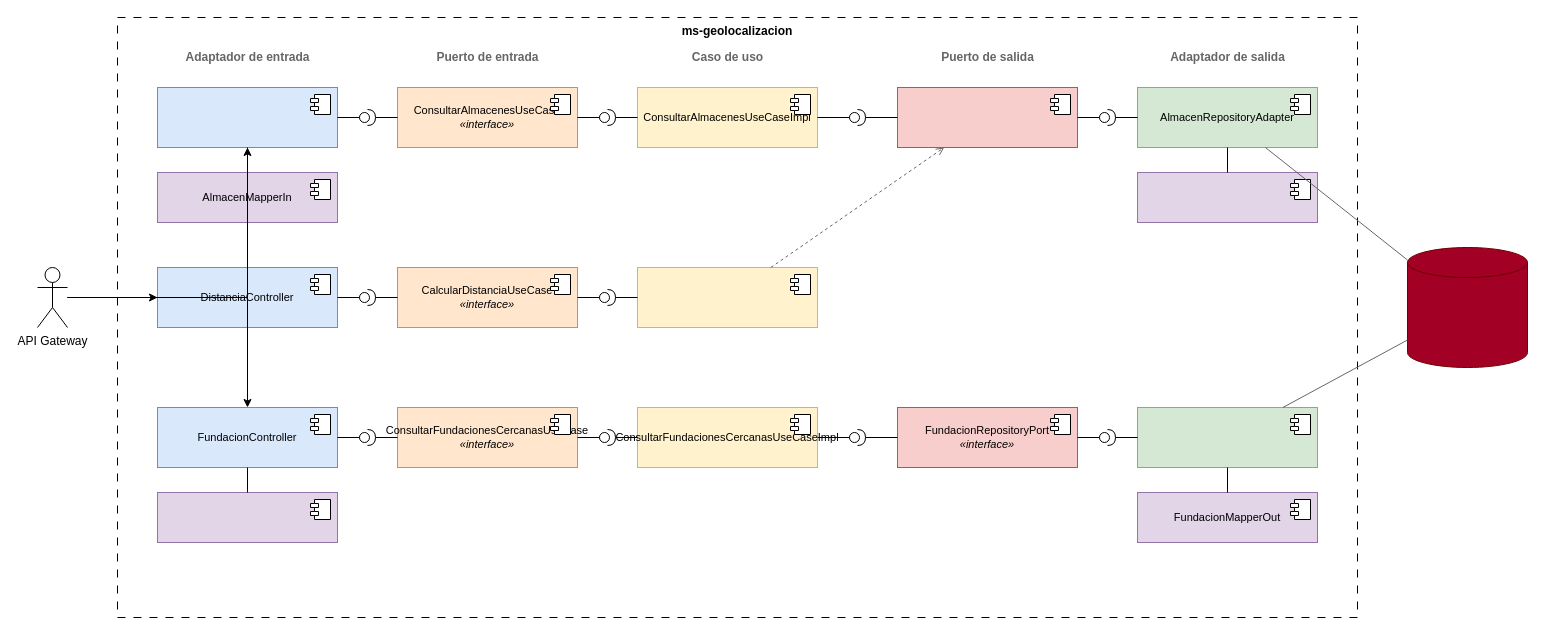
Some shapes in this 1550 by 635 pixel diagram are drawn without their labels. Here are the shapes that lost their labels. From the top down, the centre of each, then its label:
At (247,117): "AlmacenController".
At (987,117): "AlmacenRepositoryPort «interface»".
At (1227,197): "AlmacenMapperOut".
At (727,297): "CalcularDistanciaUseCaseImpl".
At (1467,307): "PostgreSQL styleradar_geolocation".
At (1227,437): "FundacionRepositoryAdapter".
At (247,517): "FundacionMapperIn".
